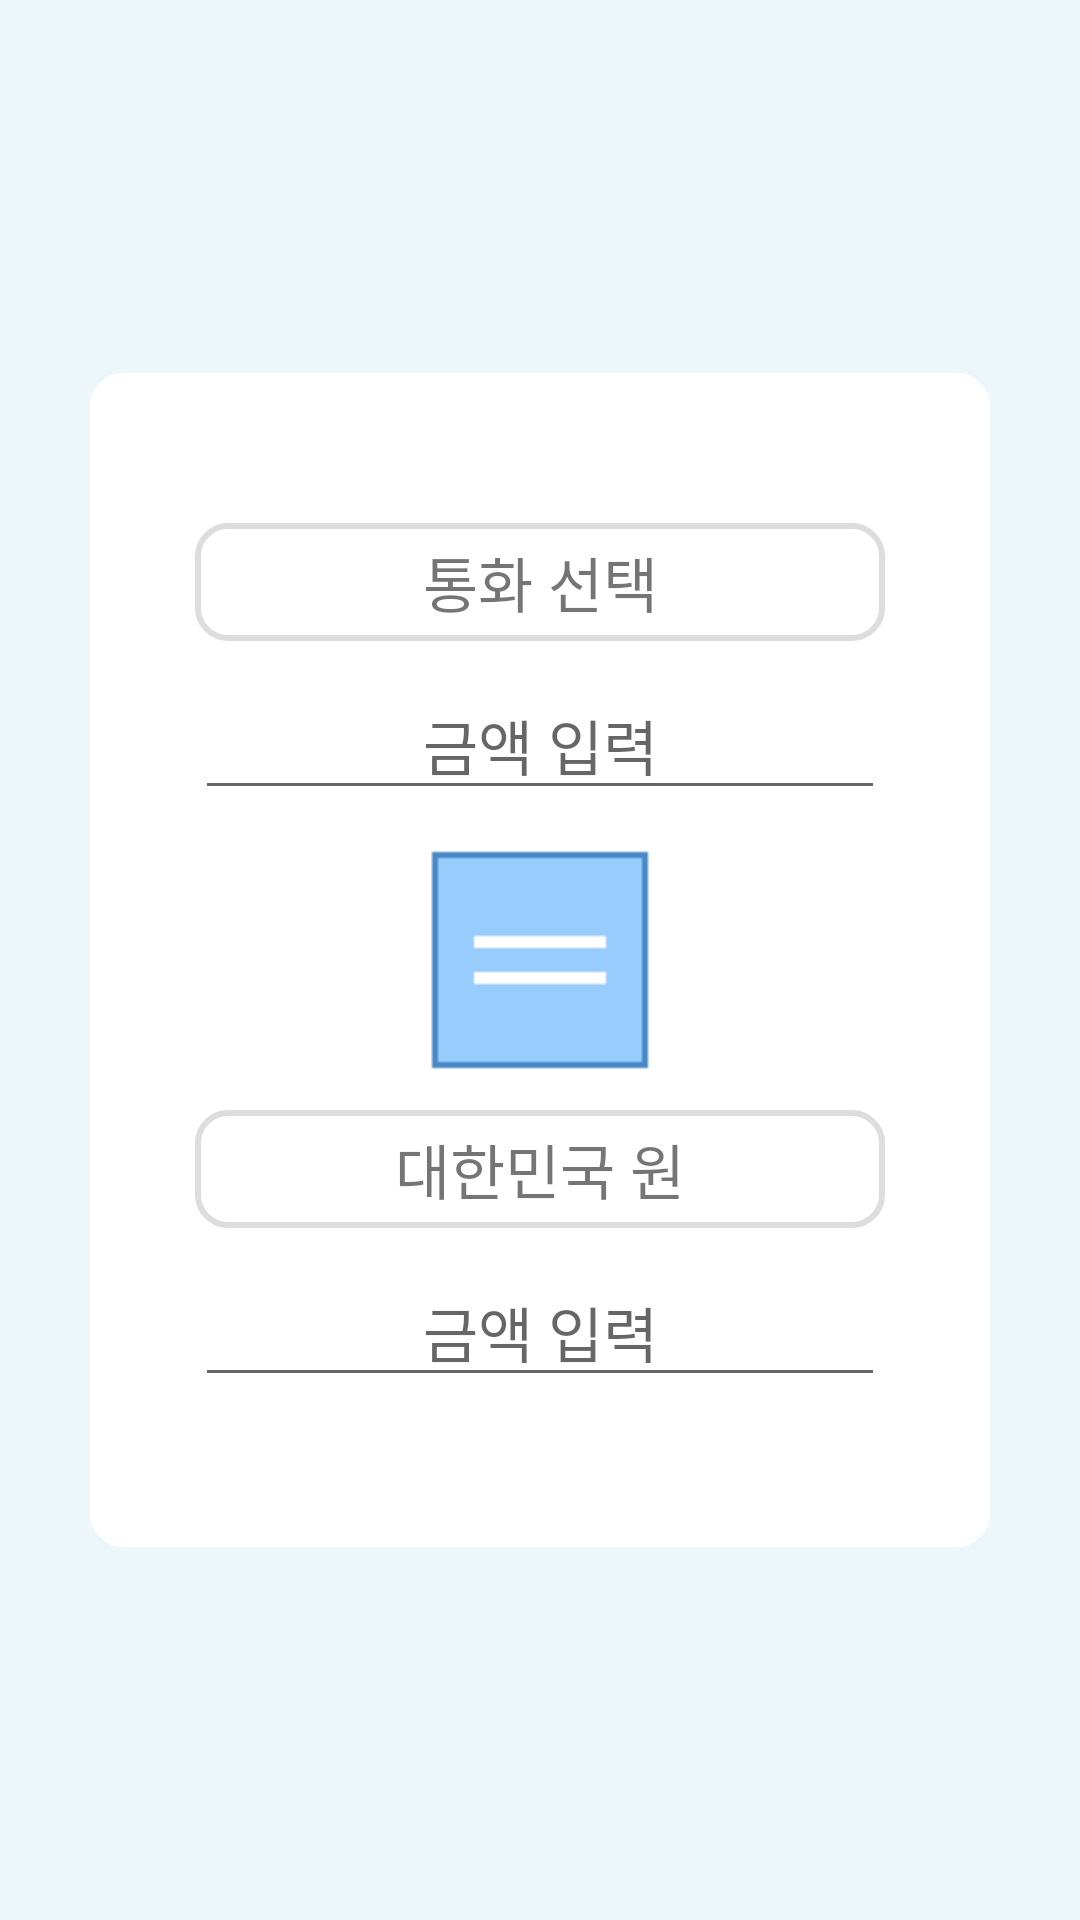

Icons on this 1080px x 1920px Android screen, each with the point to tap as point (x, y):
cal: point (540, 960)
